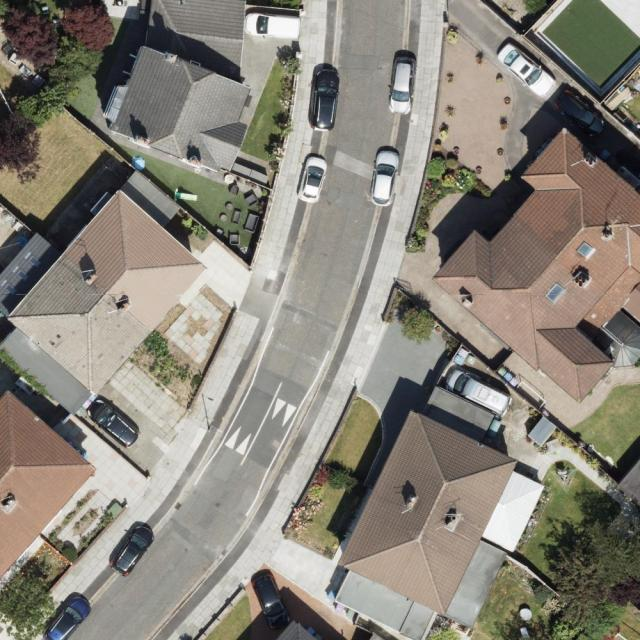roof: (430, 125, 640, 408), (336, 385, 545, 640), (0, 170, 204, 401), (108, 0, 251, 177), (0, 389, 91, 586)
skylight: (545, 282, 566, 304), (574, 240, 594, 260), (25, 254, 42, 270), (15, 267, 30, 283), (3, 280, 17, 297)
